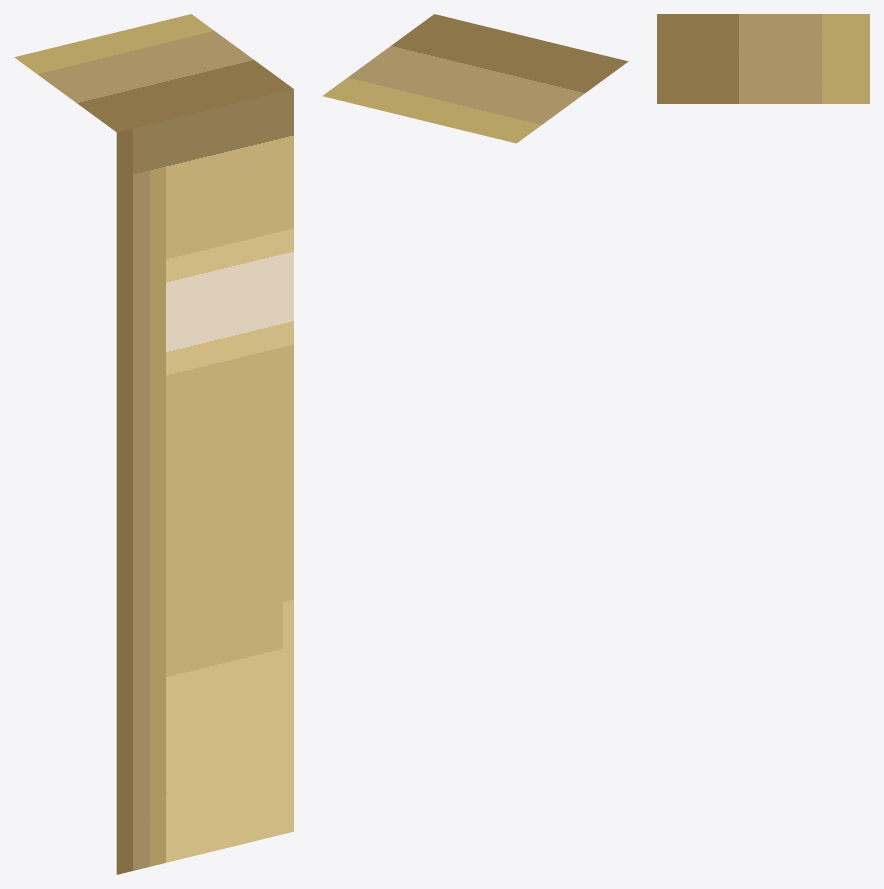
3 views of the same model, side by side, from view 1: azimuth 30°, elevation 25°; view 2: azimuth 150°, elevation 25°; view 3: azimuth 270°, elevation 25° (orthographic). The views are drawn at different scales.
Bounding box in the file's own units: 1 × 4 × 1.
1 material, 1 textured.
